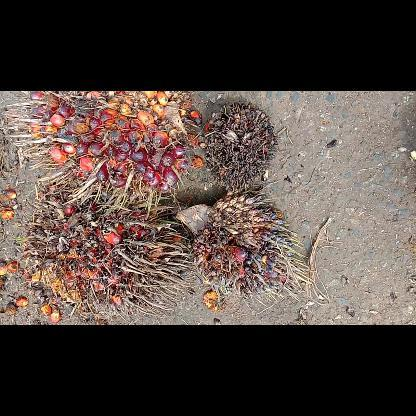TBS abnormal: (174, 190, 314, 300), (204, 100, 278, 194)
TBS masak: (12, 91, 202, 191)
Terlalu masak: (17, 174, 190, 314)
